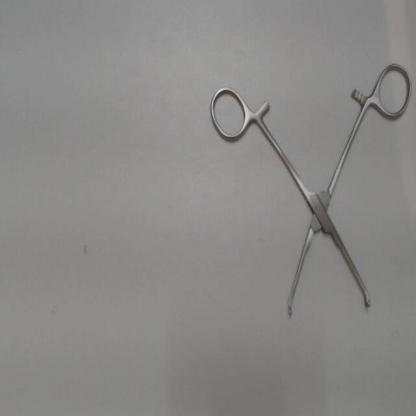Allis Tissue Forceps: (205, 56, 415, 325)
